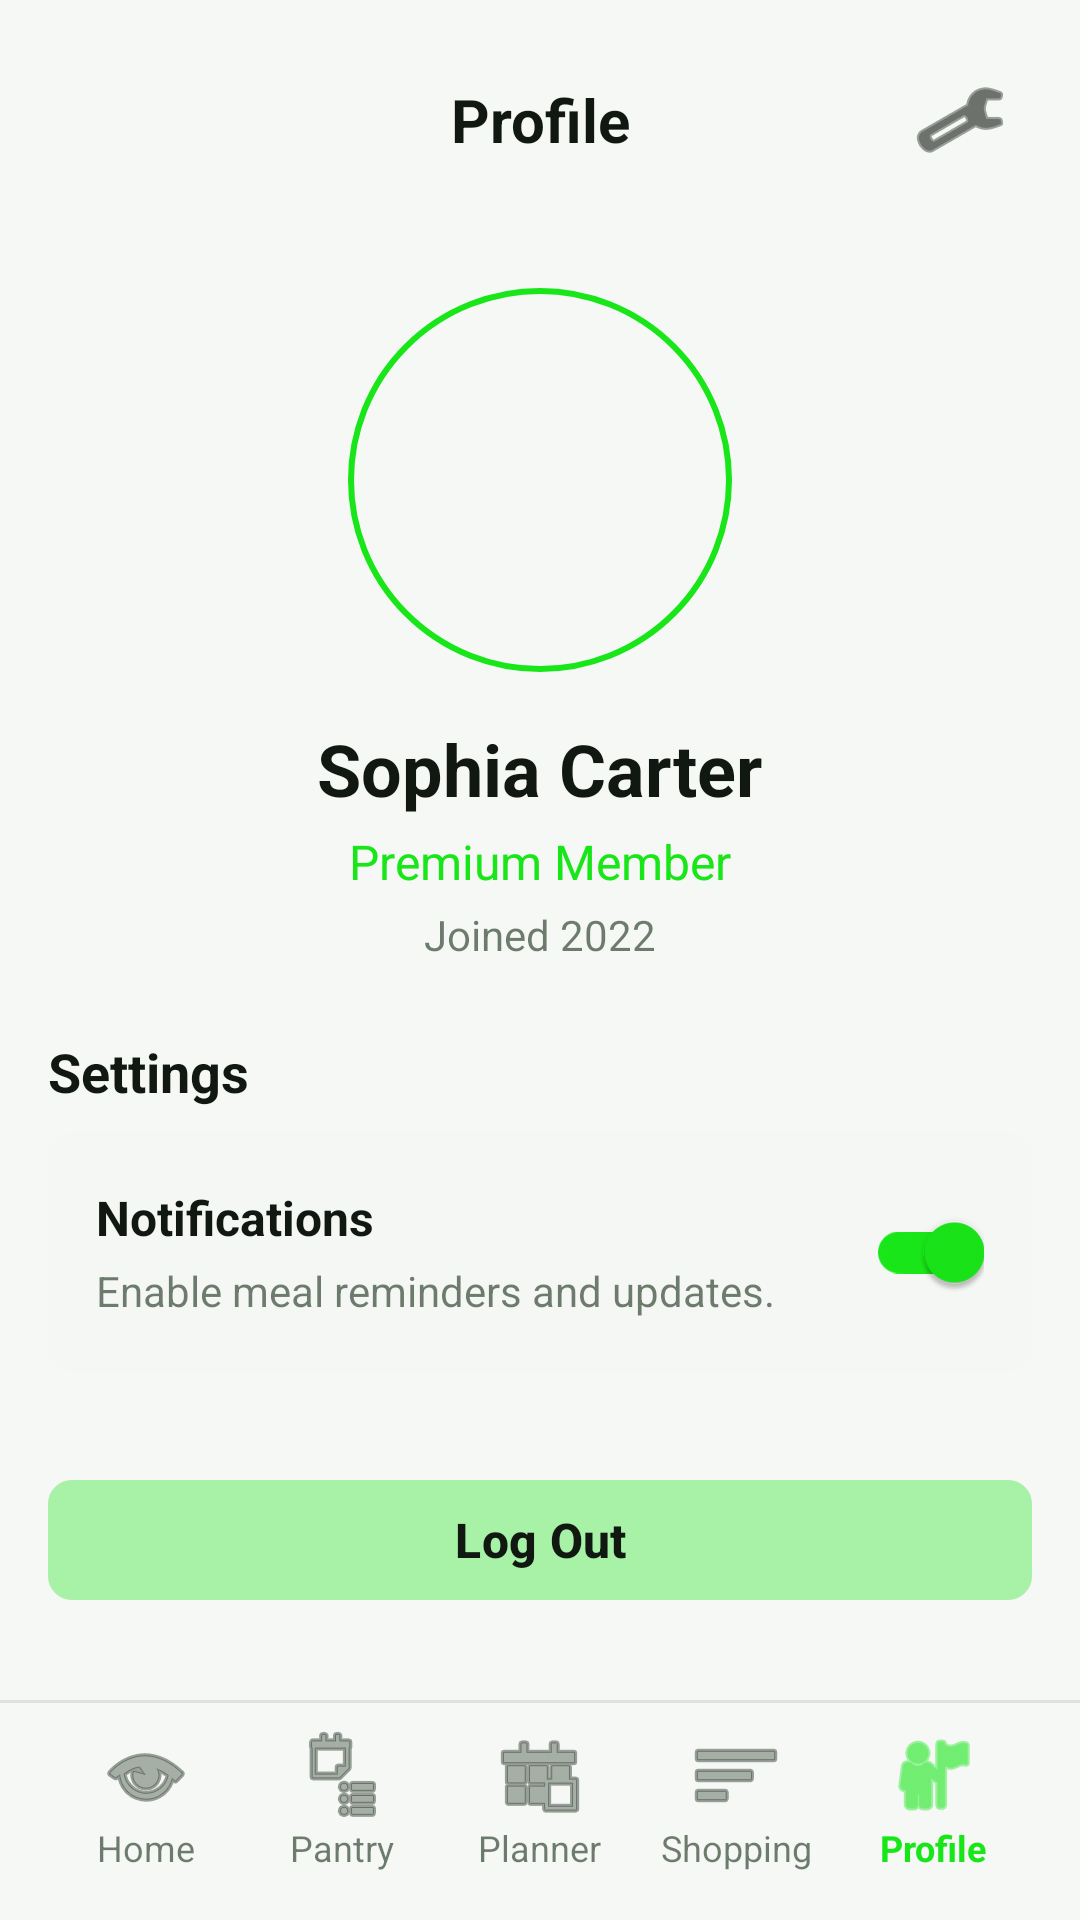

Icon click points for this 1080px×1920px phone screenshot, format (x,y):
agenda: (342,1774)
myplaces: (934,1775)
Settings: (960,120)
sort by size: (736,1775)
today: (540,1776)
view: (146,1777)
